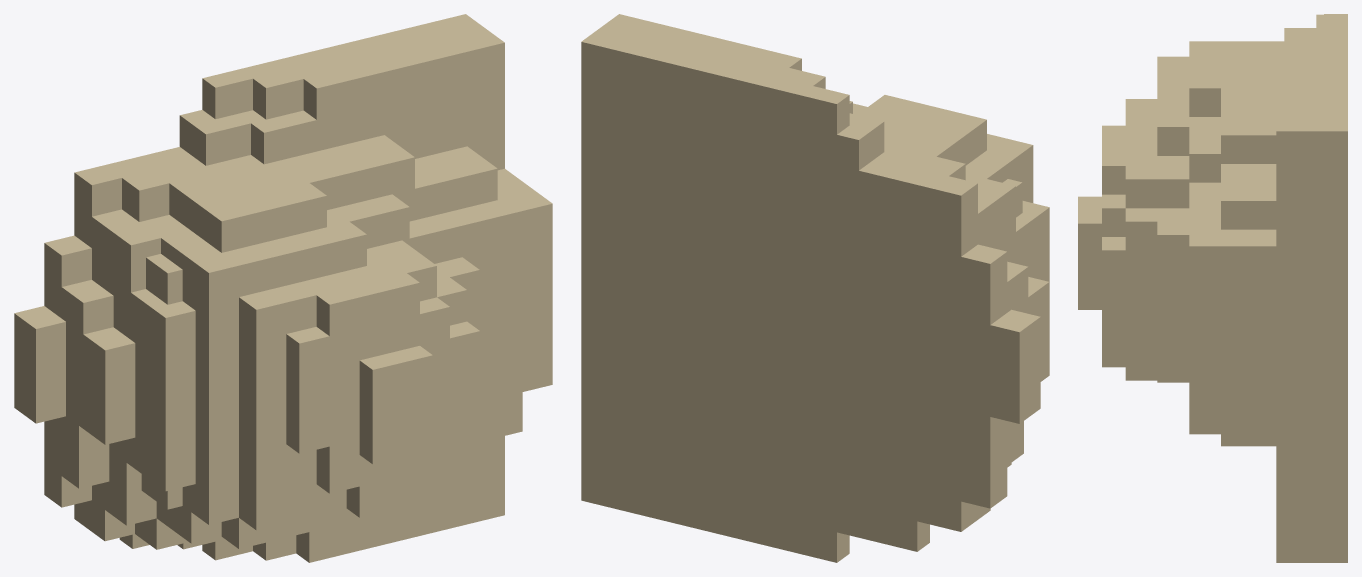
The model's file is 7x2 - asteroid.obj.
3 renders of one model, left to right at view 1: azimuth 30°, elevation 25°; view 2: azimuth 150°, elevation 25°; view 3: azimuth 270°, elevation 25°, orthographic. The views are drawn at different scales.
Size of the model in its own units: 60 by 60 by 34.
1 material, 1 textured.
